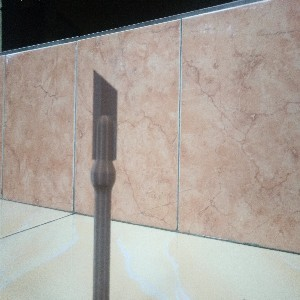cutter: (89, 68, 119, 300)
